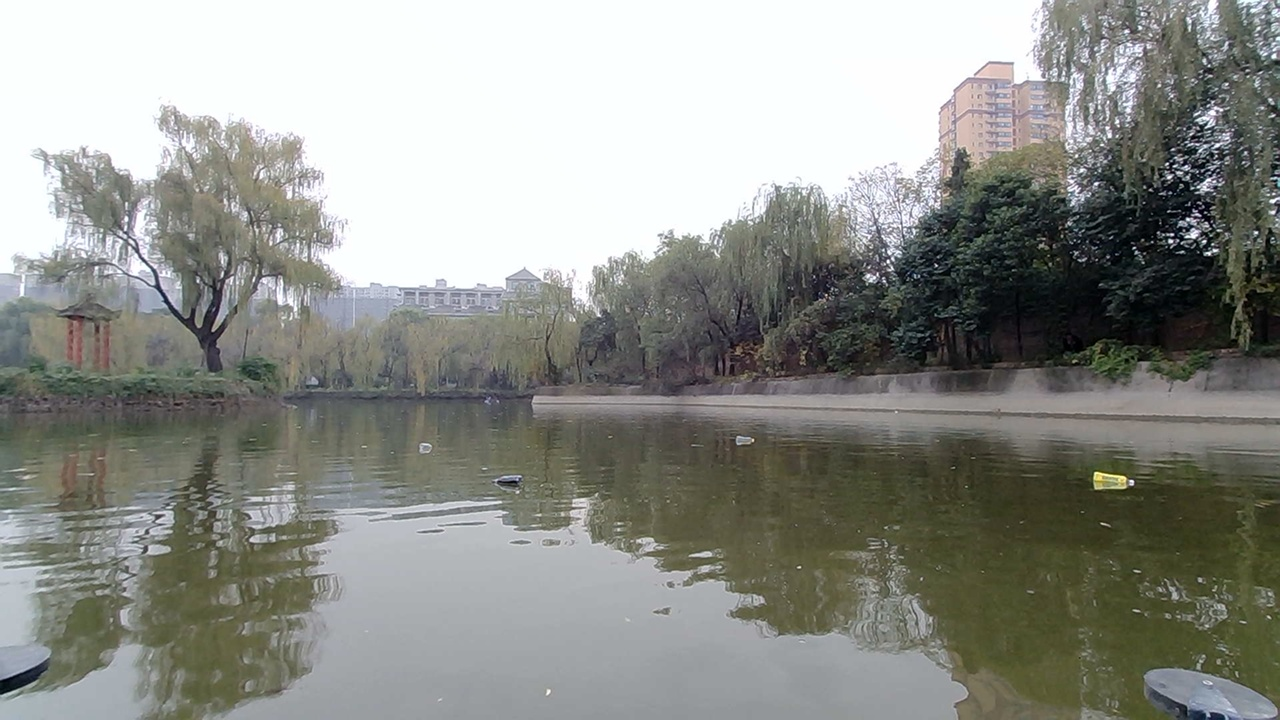bottle: (489, 466, 545, 504), (1089, 463, 1133, 497), (408, 440, 451, 468), (722, 421, 761, 445)
